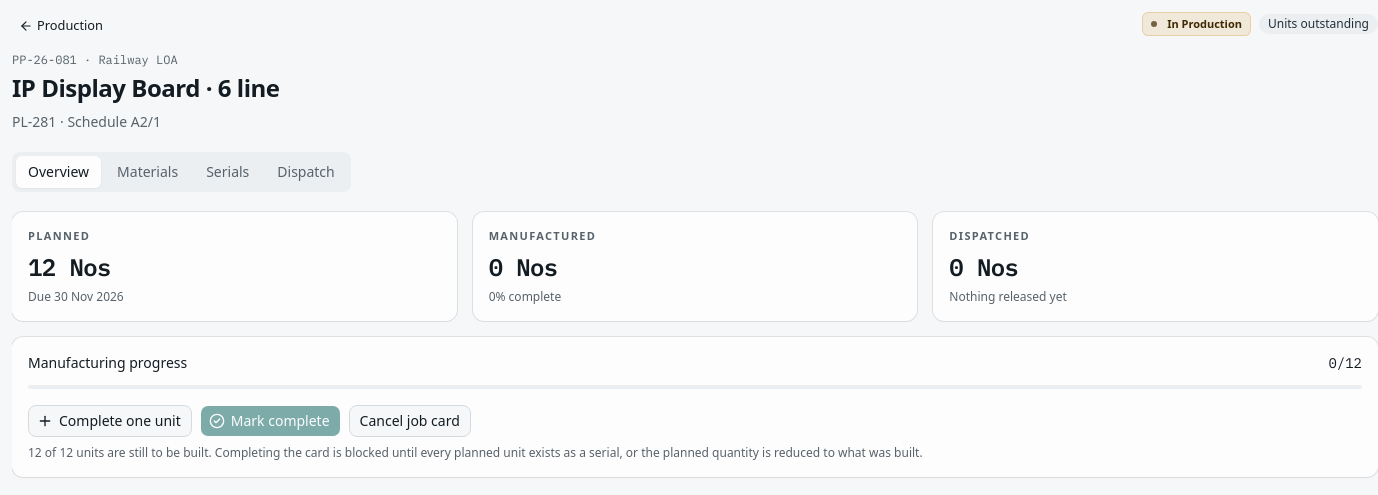
Test: the job card's Materials tab › shows Required, Available and Shortage as three separate readings
The width and height of the screenshot is (1378, 495).
What coordinates should you click on to do the following:
click the button "Materials"
I would click on:
 (148, 172)
Its box is [105,156,190,188].
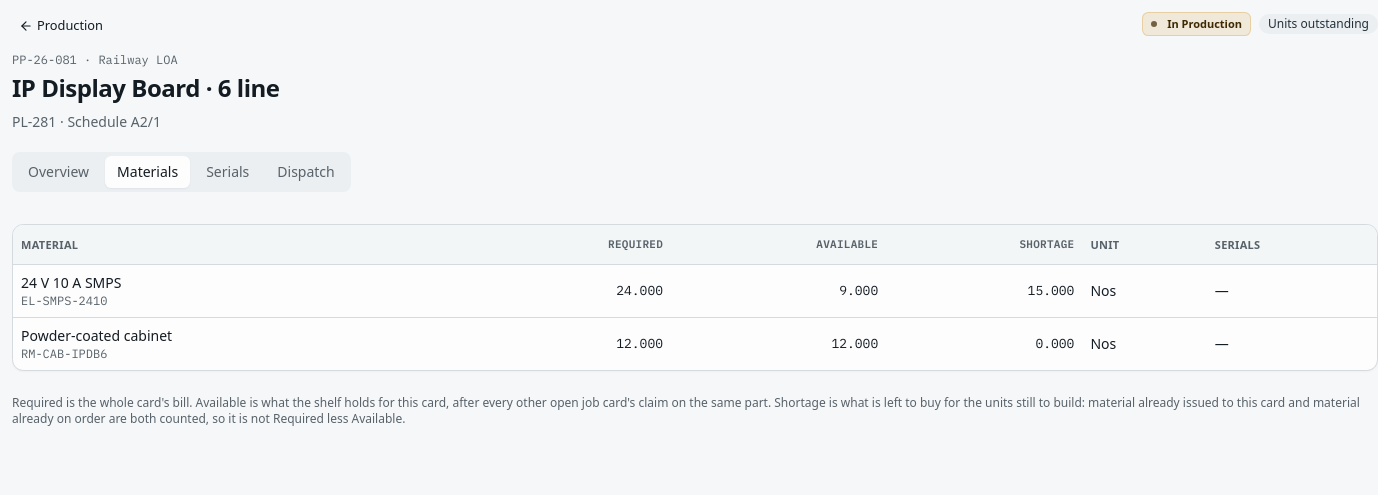
Expected: the text "24.000" is shown, [475,265,671,318]
Expected: the text "9.000" is shown, [671,265,886,318]
Expected: the text "15.000" is shown, [886,265,1082,318]
